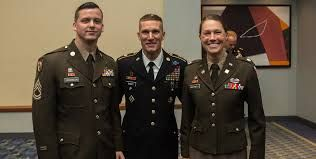uniform: (41, 38, 114, 151), (186, 53, 259, 149), (112, 51, 177, 146)
